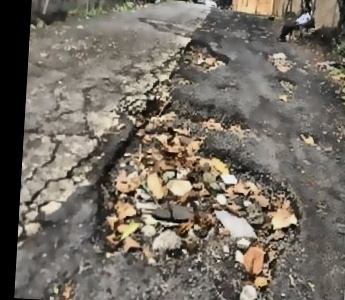pothole: (84, 91, 309, 300), (176, 39, 232, 73), (263, 48, 297, 71), (277, 75, 297, 91)
